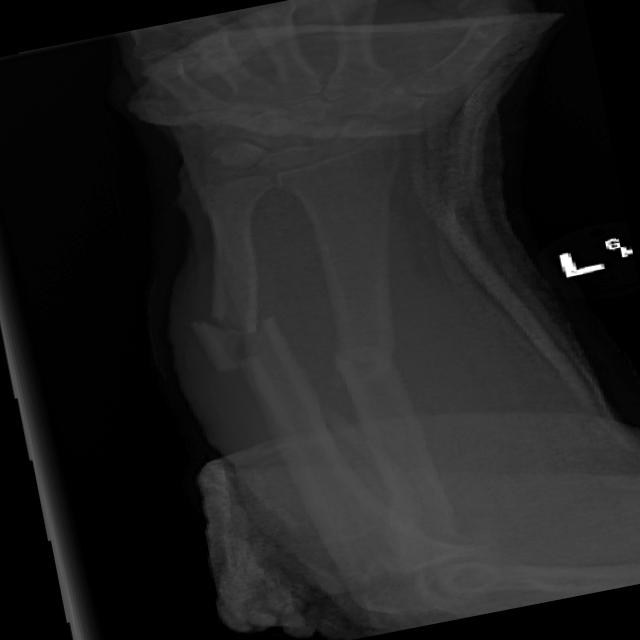forearm fracture: (126, 281, 338, 417)
